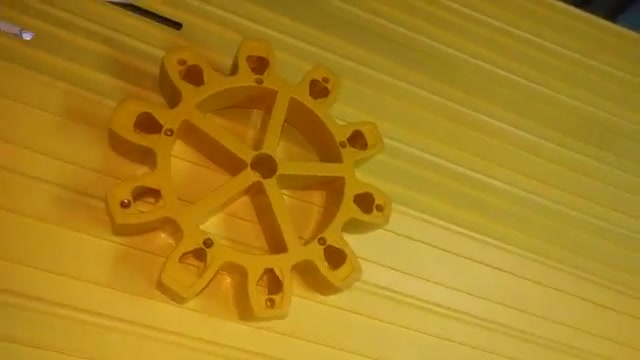gear: (95, 16, 404, 326)
